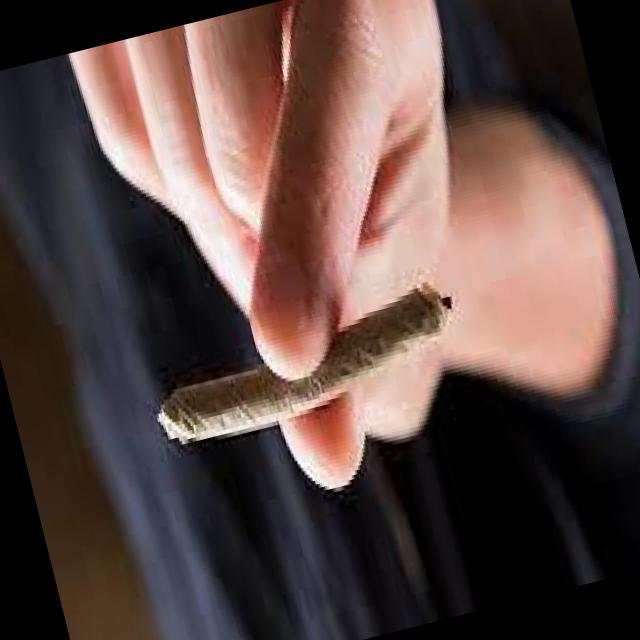cigarette: (140, 280, 474, 460)
